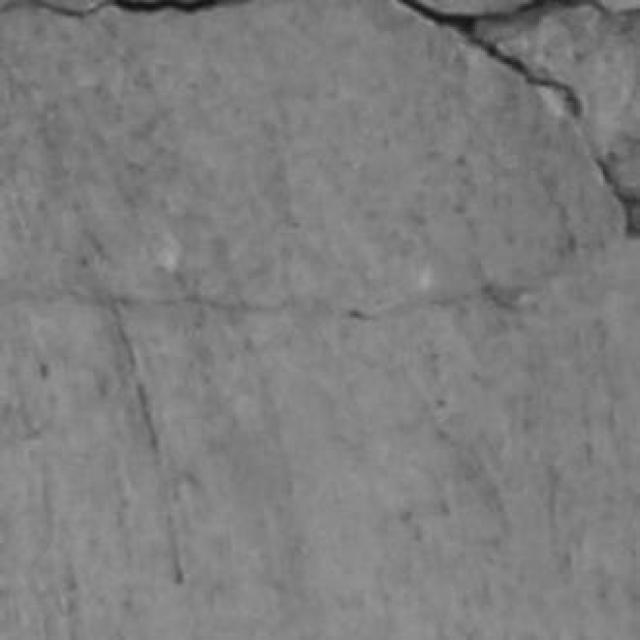crack: (392, 0, 639, 238), (86, 260, 184, 585), (392, 0, 581, 118), (2, 0, 252, 19)
